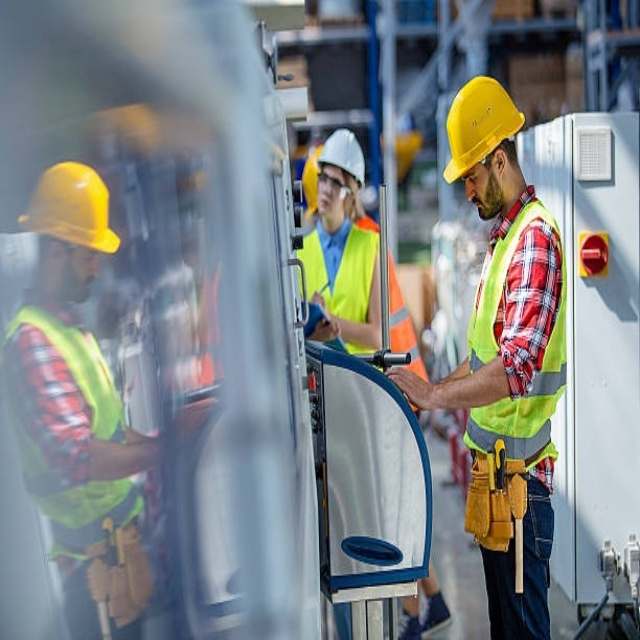Gafas: (314, 166, 350, 201)
Sin_gafas: (460, 162, 487, 191)
Sin_guantes: (380, 362, 440, 414)
Sin_mascara: (72, 271, 97, 300), (471, 195, 492, 221), (317, 193, 336, 221)
